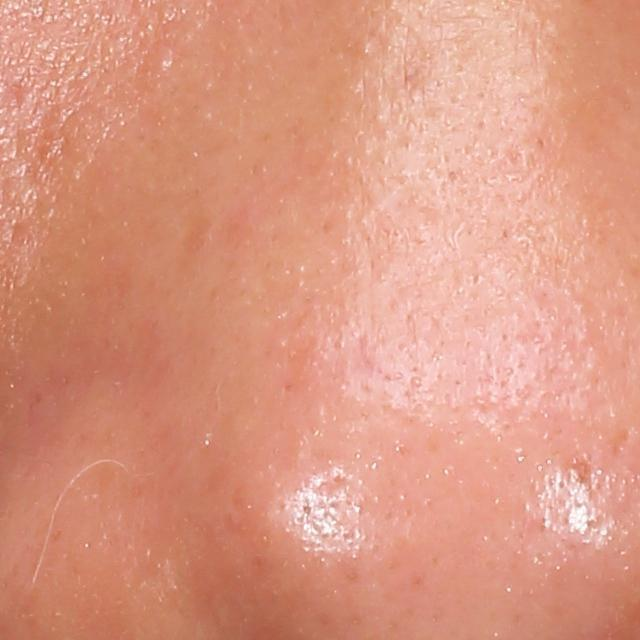comedo: (358, 39, 376, 58)
